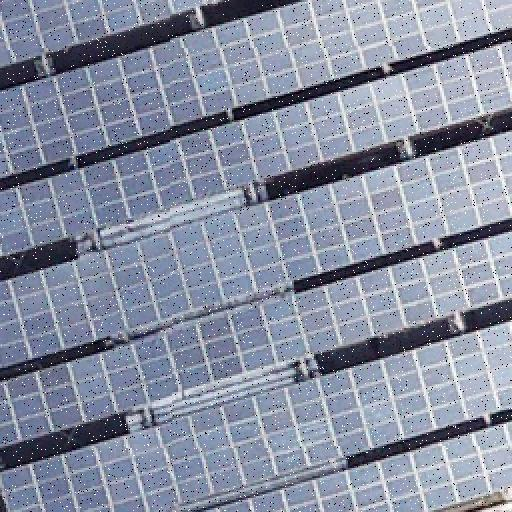solar-panel: (0, 130, 512, 370), (0, 39, 512, 257), (0, 232, 512, 448), (0, 320, 512, 512), (0, 1, 512, 183), (208, 420, 512, 512), (0, 0, 228, 68)
